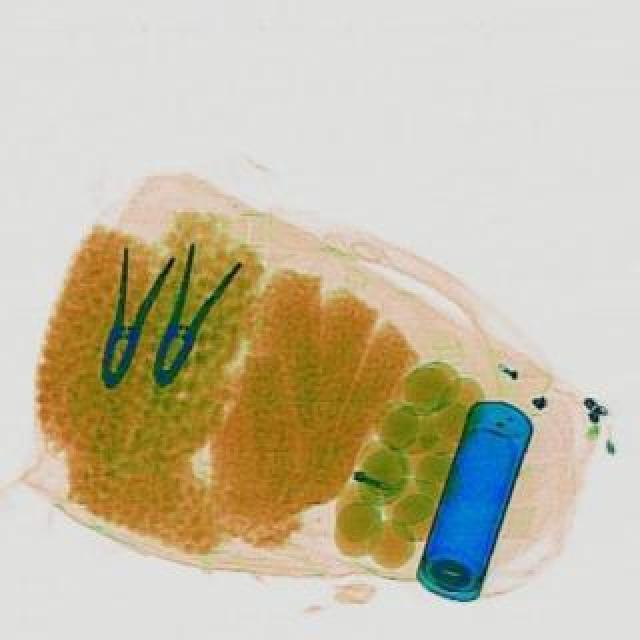wrench: (132, 240, 244, 396), (78, 242, 174, 394)
